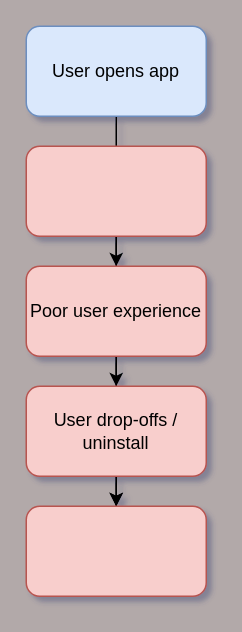
Image size: 242x632. Some labels were removed from this diagram. The shapes that lost their labels are listed below. From the top down, each one's centre as x and y in pixels, then its label:
point (115, 190): Slow loading / crash
point (115, 550): Revenue Loss
